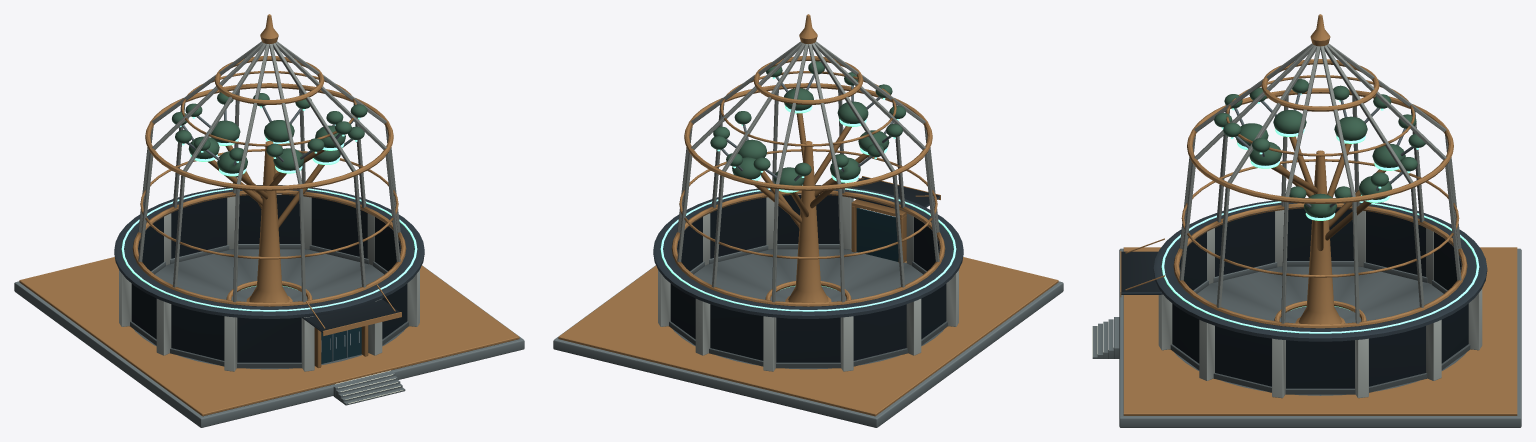
File: knowledge-atrium.lod0.glb
3 renders of one model, left to right at view 1: azimuth 30°, elevation 25°; view 2: azimuth 150°, elevation 25°; view 3: azimuth 270°, elevation 25°, orthographic. The views are drawn at different scales.
Visible parts, largest first — view 1: structure, lobby; view 2: structure, lobby; view 3: structure, lobby.
Boxes of the visible parts, bbox=[...] form: structure: bbox=[14, 14, 524, 427]; lobby: bbox=[131, 195, 407, 363]; structure: bbox=[553, 14, 1063, 427]; lobby: bbox=[670, 195, 946, 362]; structure: bbox=[1092, 14, 1521, 427]; lobby: bbox=[1172, 208, 1468, 388].
Size of the model in its own units: 24 by 21.7 by 25.61.
